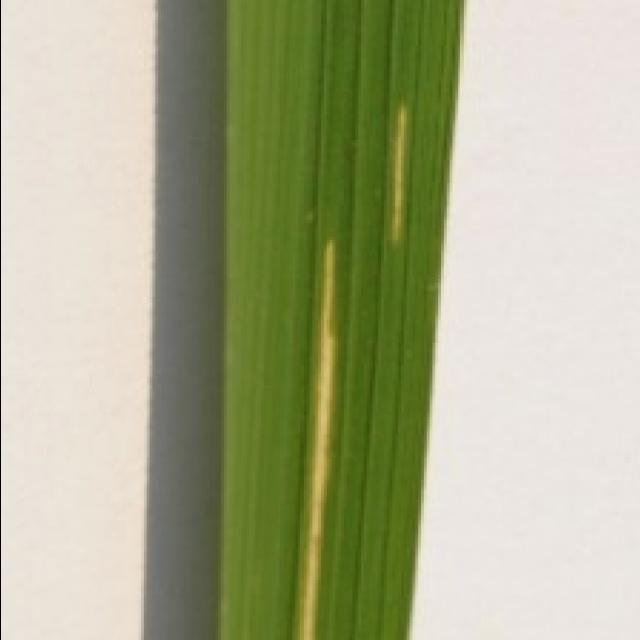Unhealthy: (298, 234, 337, 640), (390, 99, 406, 246)
